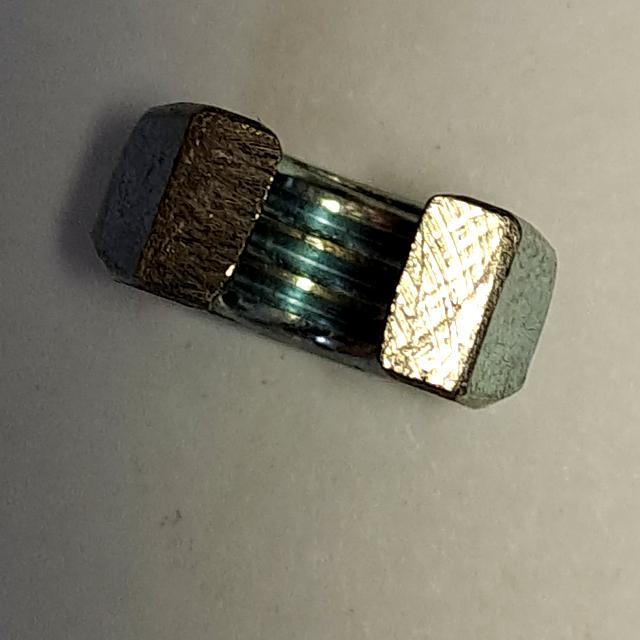Side-Fracture: (81, 78, 573, 427)
